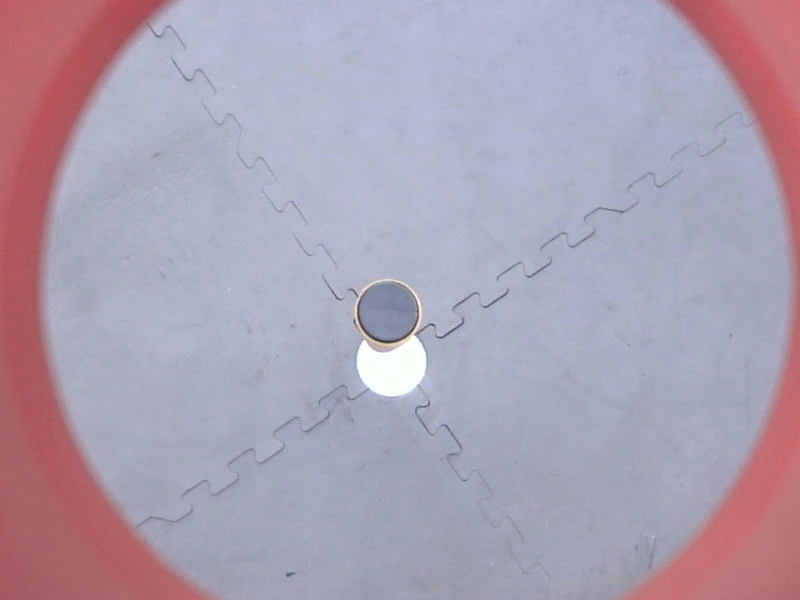tip: (351, 275, 425, 351)
